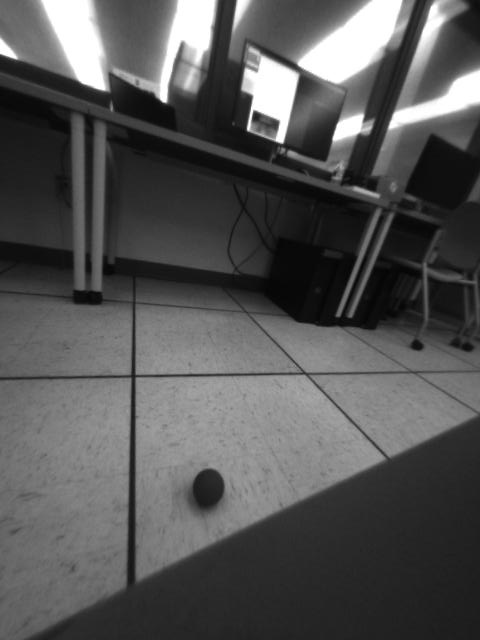dogtoy: (185, 459, 235, 513)
